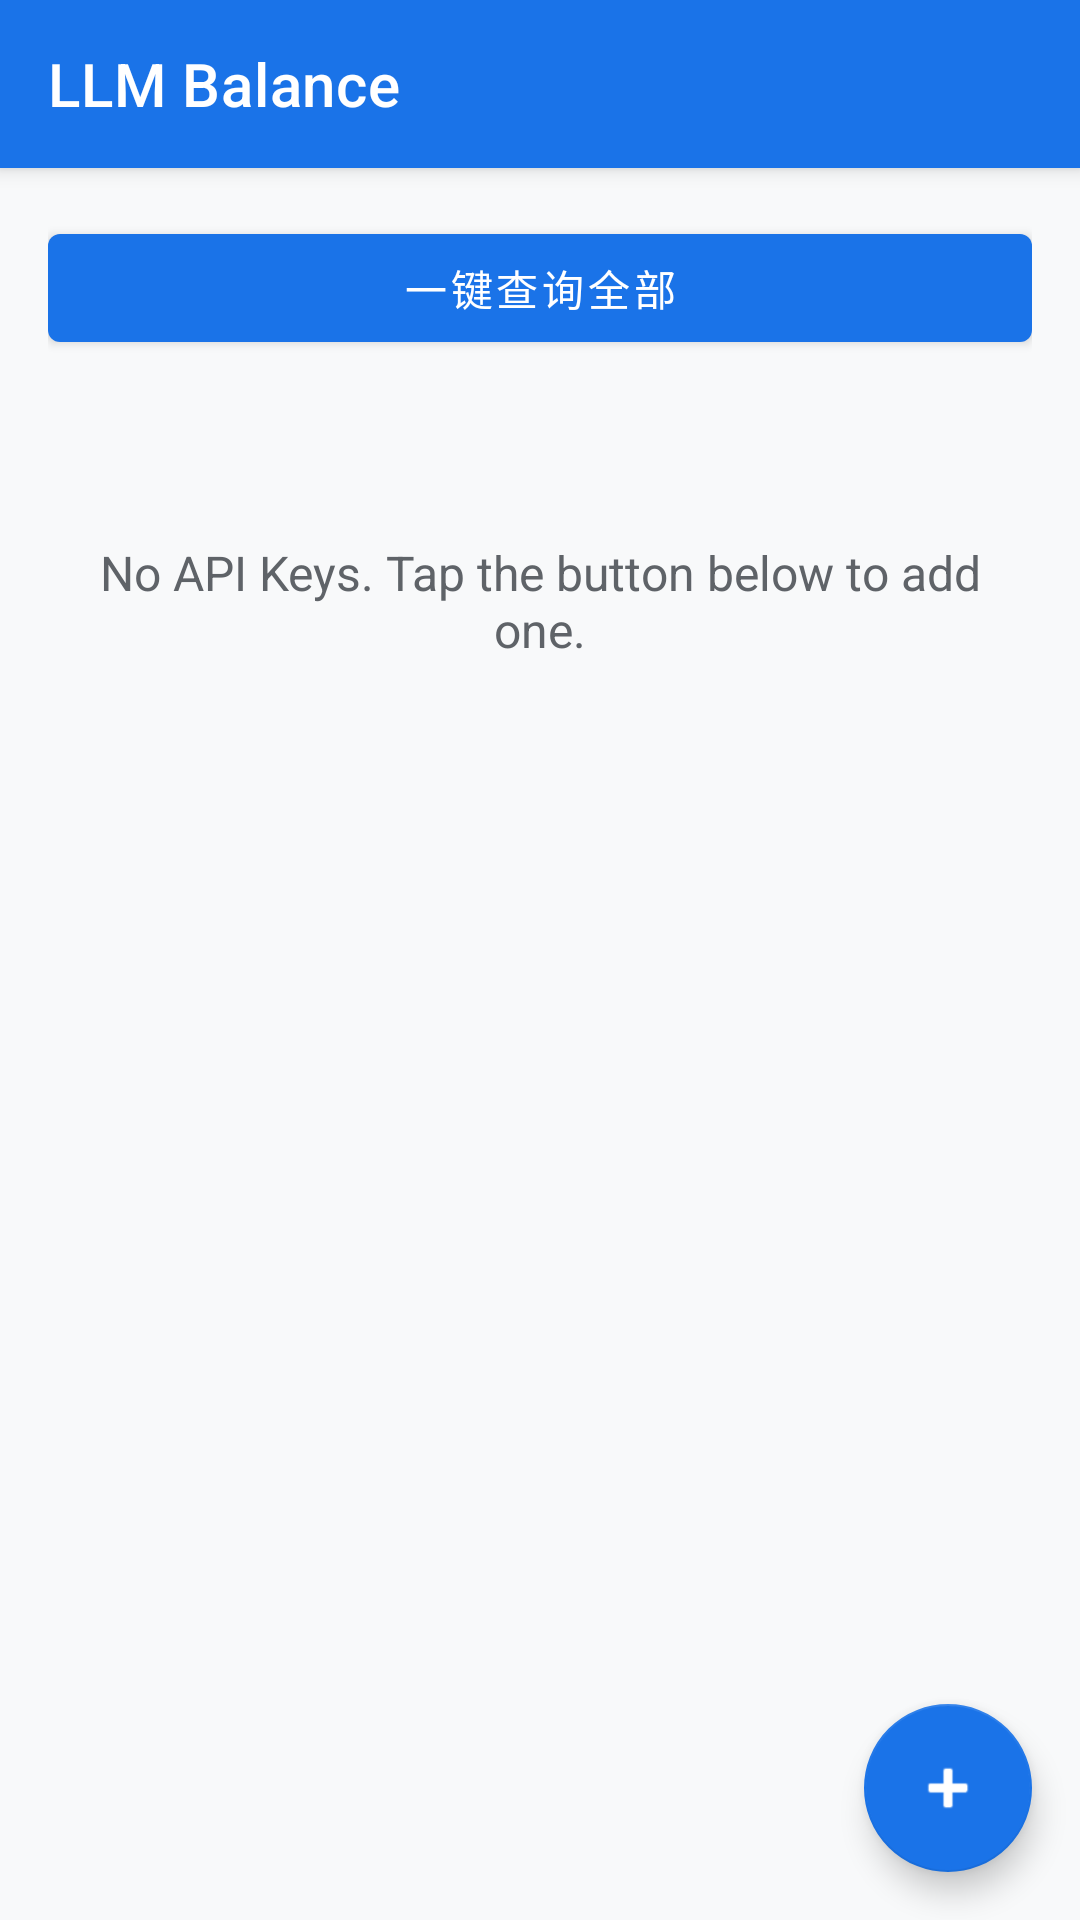

Icon click points for this 1080x1920 phone screenshot, format point (x, y):
Add API Key: point (948, 1788)
